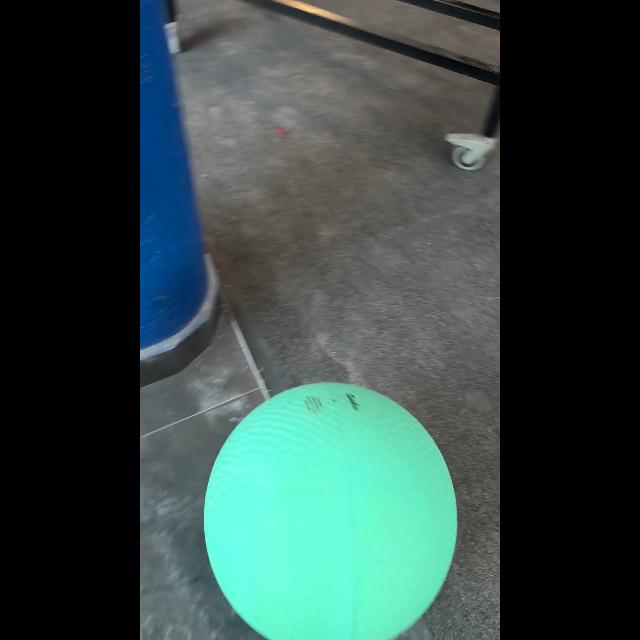ALGAE: (202, 381, 458, 639)
